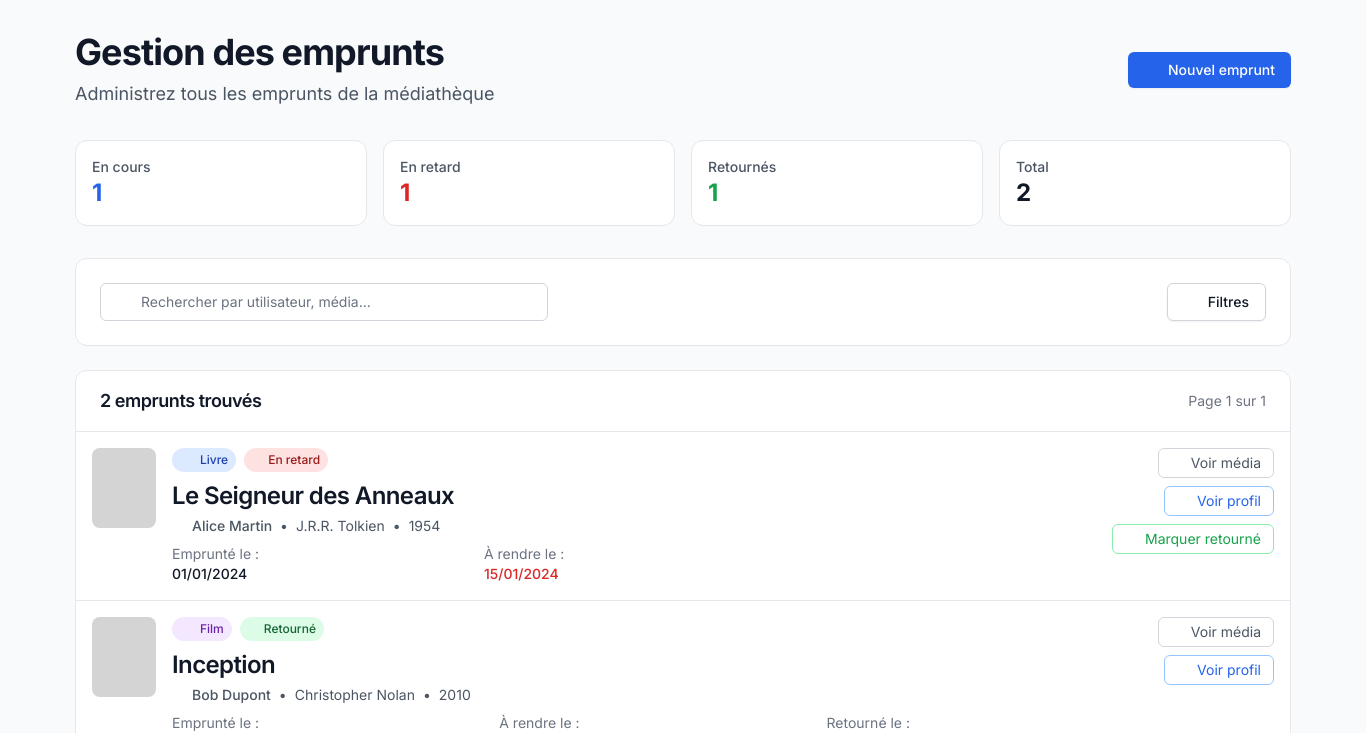
Test: AdminBorrowsPage › Gestion des filtres › affiche le nombre de filtres actifs
Click the button with test id "filter-button": (1216, 302) [1167,283,1266,321]
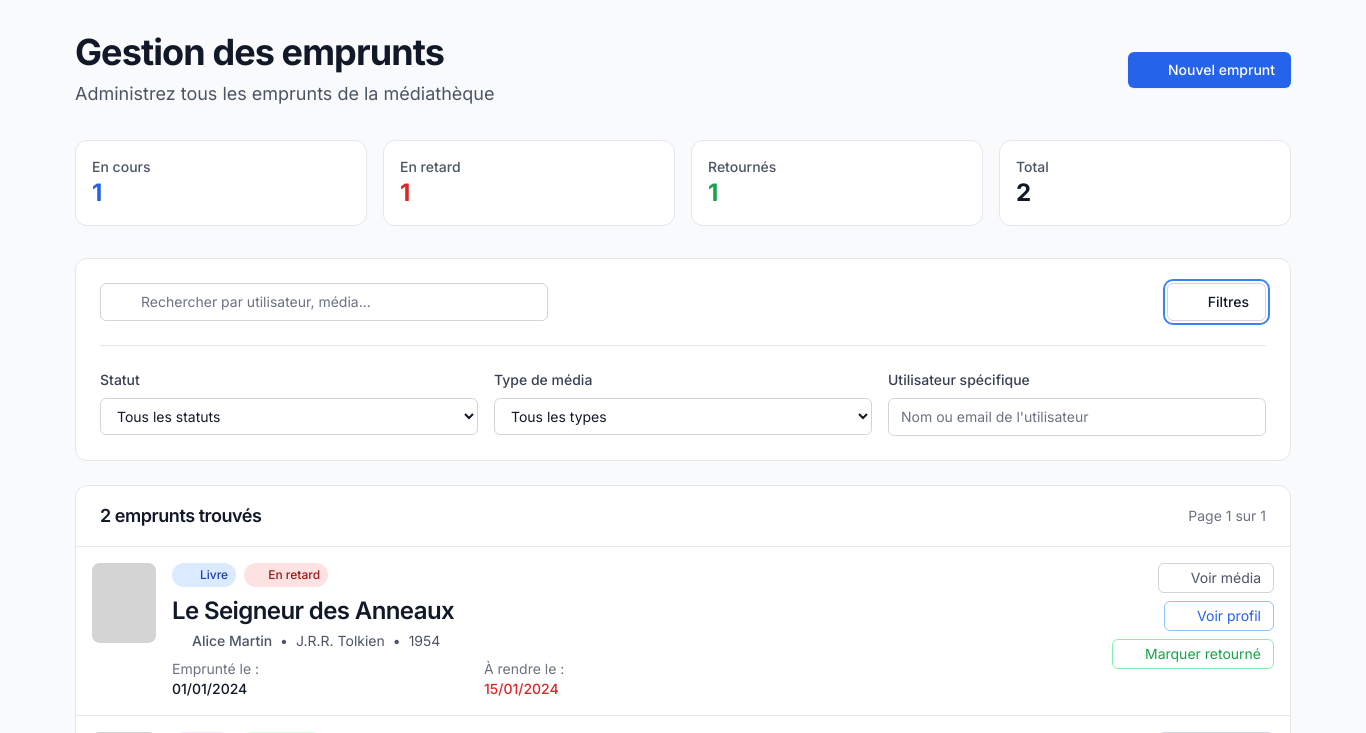
Select "En cours" in the dropdown with test id "status-filter": (289, 416) [100,398,478,435]
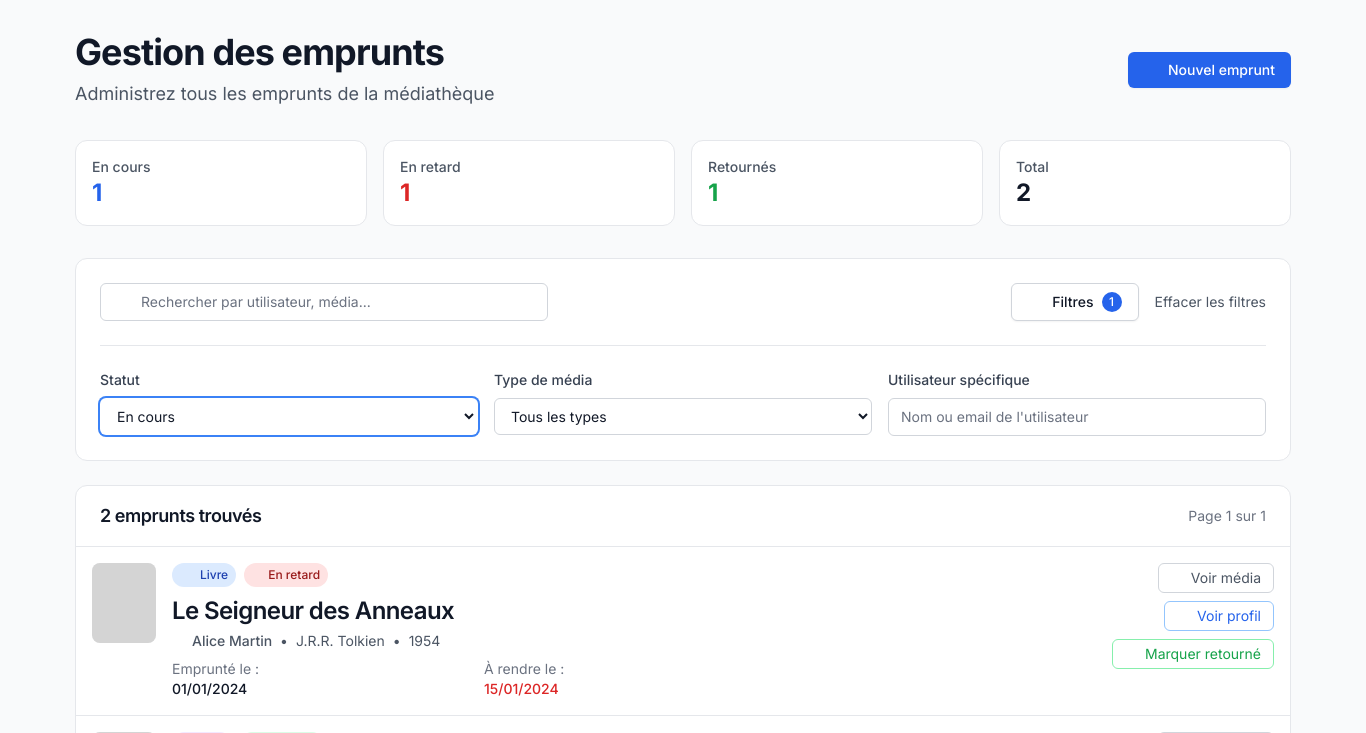
Check: the 4th text "1" is shown, box [1102,292,1122,312]
